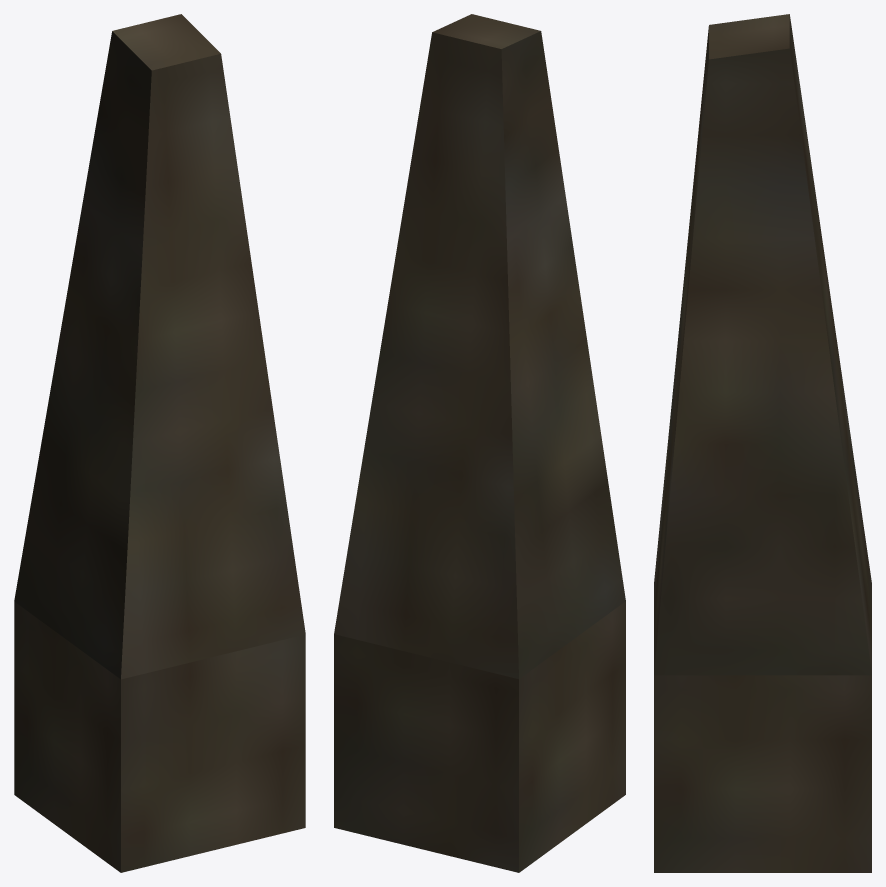
The model's file is wooden_spike_small_offset.obj.
The picture shows the model from 3 angles, left to right: view 1: azimuth 30°, elevation 25°; view 2: azimuth 150°, elevation 25°; view 3: azimuth 270°, elevation 25°; orthographic projection. The views are drawn at different scales.
Visible parts, largest first — view 1: cuboid; view 2: cuboid; view 3: cuboid.
Boxes of the visible parts, <box> form: cuboid: <box>14,14,305,872</box>; cuboid: <box>334,14,625,872</box>; cuboid: <box>654,14,871,872</box>.
Bounding box in the file's own units: 0.25 × 1.01 × 0.25.
